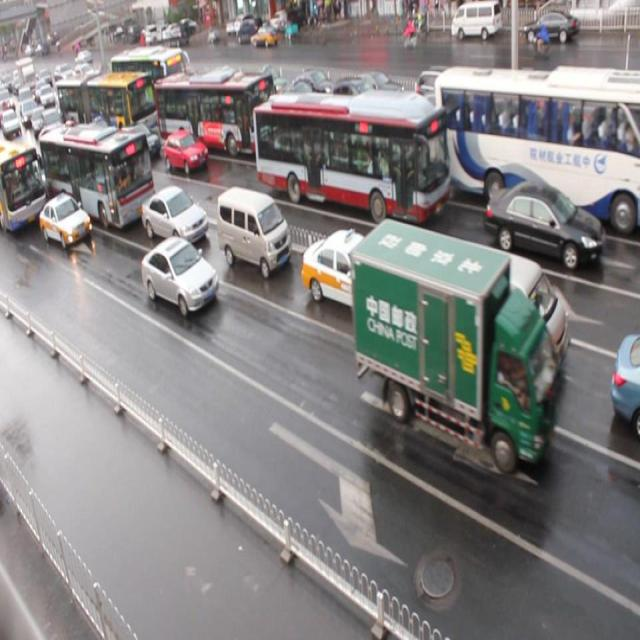bus: (348, 216, 557, 479)
car: (484, 181, 604, 271), (300, 228, 404, 321), (140, 236, 217, 312), (141, 185, 208, 250), (38, 190, 92, 245), (164, 129, 208, 173), (116, 123, 160, 164)
truck: (440, 240, 568, 386), (216, 186, 292, 276)
van: (432, 64, 640, 232), (252, 87, 447, 221), (38, 121, 156, 232), (155, 69, 274, 154), (58, 71, 158, 132), (1, 139, 47, 233)
